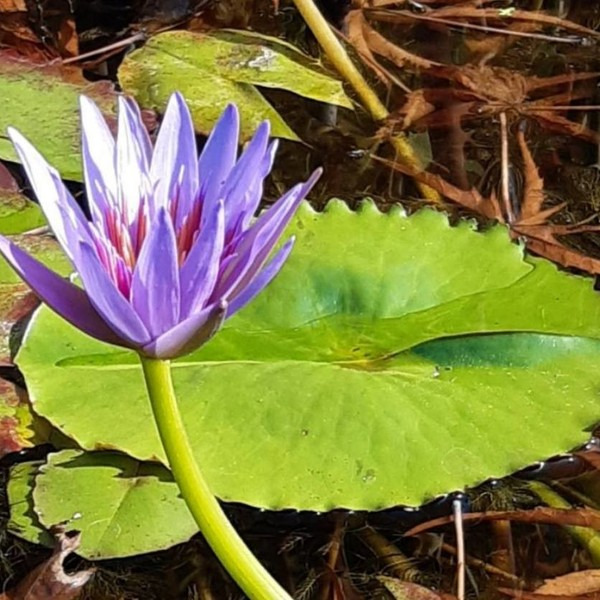obstacle: (9, 83, 280, 573)
